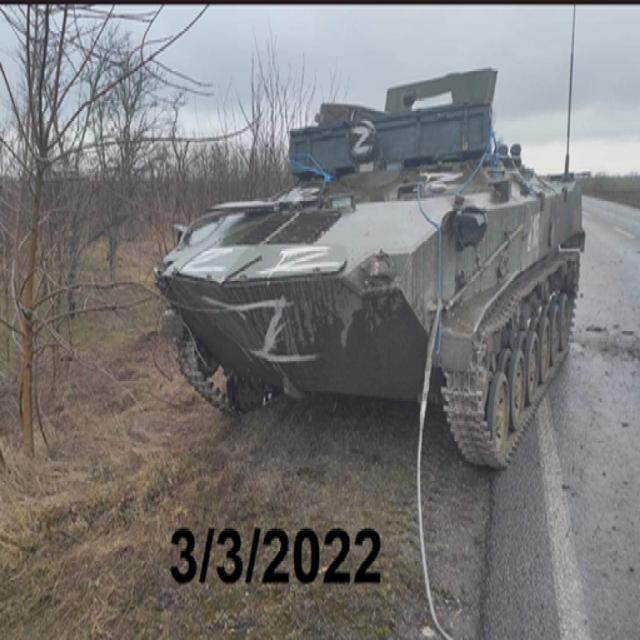APC-IFV: (155, 64, 590, 467)
